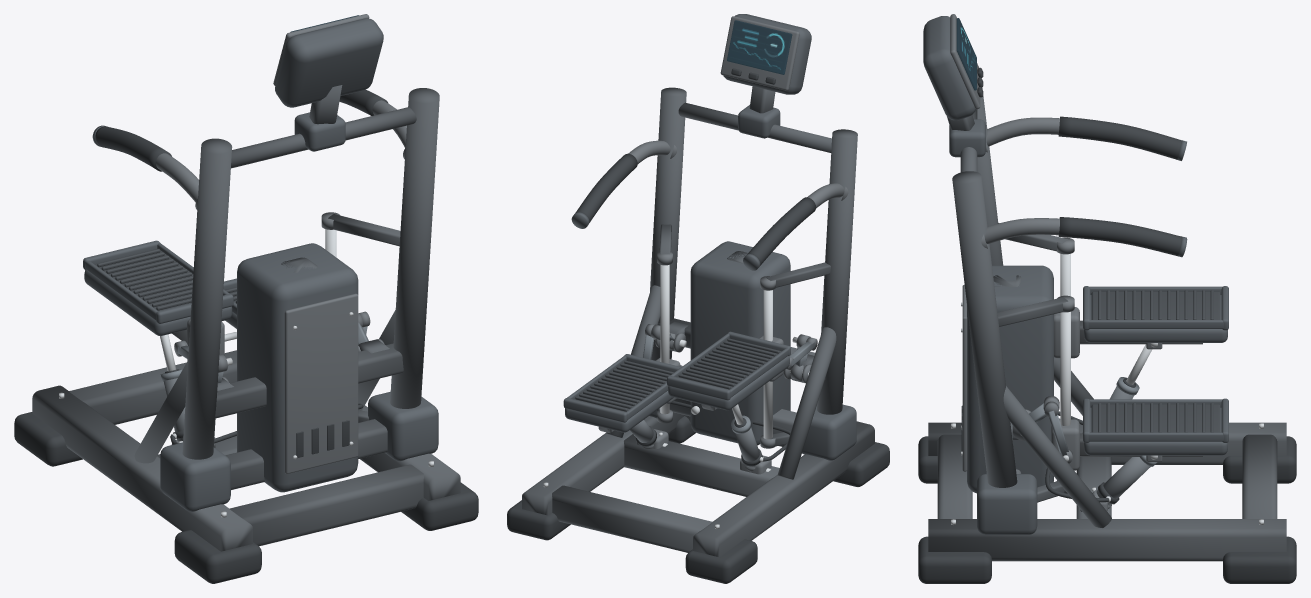
File: stair_stepper.glb
The picture shows the model from 3 angles, left to right: view 1: azimuth 30°, elevation 25°; view 2: azimuth 150°, elevation 25°; view 3: azimuth 270°, elevation 25°; orthographic projection. The views are drawn at different scales.
Parts seen in each view (by area): view 1: BaseFrame_Frame, FrontMechanicalHousing_Plastic, LeftSupportColumn_Frame, FrontMechanicalHousing_Arm, RightSupportColumn_Frame, BaseFrame_Rubber, DigitalConsole_Plastic, MainFrame_Frame, LeftPedal_Plastic, LeftSupportColumn_Plastic, LeftPedal_Pedal, RightSupportColumn_Plastic (+6 smaller); view 2: BaseFrame_Frame, FrontMechanicalHousing_Plastic, LeftSupportColumn_Frame, RightSupportColumn_Frame, BaseFrame_Rubber, LeftPedal_Plastic, RightPedal_Plastic, FixedHandlebars_Rubber, LeftPedal_Pedal, RightPedal_Pedal, DigitalConsole_Screen, MainFrame_Frame (+10 smaller); view 3: BaseFrame_Frame, RightSupportColumn_Frame, FrontMechanicalHousing_Plastic, BaseFrame_Rubber, FixedHandlebars_Rubber, RightPedal_Plastic, LeftPedal_Plastic, RightPedal_Pedal, LeftPedal_Pedal, RightSupportColumn_Plastic, DigitalConsole_Plastic, FixedHandlebars_Arm (+11 smaller).
Part boxes in pixels (box(x1,y1,x2,y2)): BaseFrame_Frame: box(32, 350, 460, 551); FrontMechanicalHousing_Plastic: box(237, 243, 358, 492); LeftSupportColumn_Frame: box(134, 138, 232, 463); FrontMechanicalHousing_Arm: box(284, 293, 358, 473); RightSupportColumn_Frame: box(358, 88, 439, 410); BaseFrame_Rubber: box(14, 412, 478, 583); DigitalConsole_Plastic: box(275, 18, 383, 107); MainFrame_Frame: box(215, 214, 403, 489); LeftPedal_Plastic: box(83, 240, 233, 335); LeftSupportColumn_Plastic: box(160, 442, 230, 511); LeftPedal_Pedal: box(94, 249, 193, 311); RightSupportColumn_Plastic: box(368, 391, 438, 461); BaseFrame_Frame: box(522, 412, 874, 557); FrontMechanicalHousing_Plastic: box(690, 241, 790, 445); LeftSupportColumn_Frame: box(777, 129, 857, 479); RightSupportColumn_Frame: box(606, 87, 686, 437); BaseFrame_Rubber: box(507, 416, 889, 583); LeftPedal_Plastic: box(667, 331, 790, 410); RightPedal_Plastic: box(563, 354, 681, 432); FixedHandlebars_Rubber: box(575, 153, 815, 265); LeftPedal_Pedal: box(676, 338, 781, 389); RightPedal_Pedal: box(573, 360, 673, 411); DigitalConsole_Screen: box(727, 20, 792, 74); MainFrame_Frame: box(657, 224, 830, 446); BaseFrame_Frame: box(928, 422, 1286, 561); RightSupportColumn_Frame: box(952, 171, 1111, 527); FrontMechanicalHousing_Plastic: box(967, 265, 1053, 493); BaseFrame_Rubber: box(918, 436, 1296, 583); FixedHandlebars_Rubber: box(1058, 116, 1182, 255); RightPedal_Plastic: box(1083, 398, 1228, 455); LeftPedal_Plastic: box(1083, 286, 1228, 342); RightPedal_Pedal: box(1091, 403, 1220, 432); LeftPedal_Pedal: box(1091, 290, 1220, 319); RightSupportColumn_Plastic: box(977, 474, 1037, 534); DigitalConsole_Plastic: box(923, 16, 975, 120); FixedHandlebars_Arm: box(981, 117, 1059, 248).
Bounding box in the file's own units: 0.89 × 1.62 × 1.13.
Materials: 9 (1 with a texture image).
